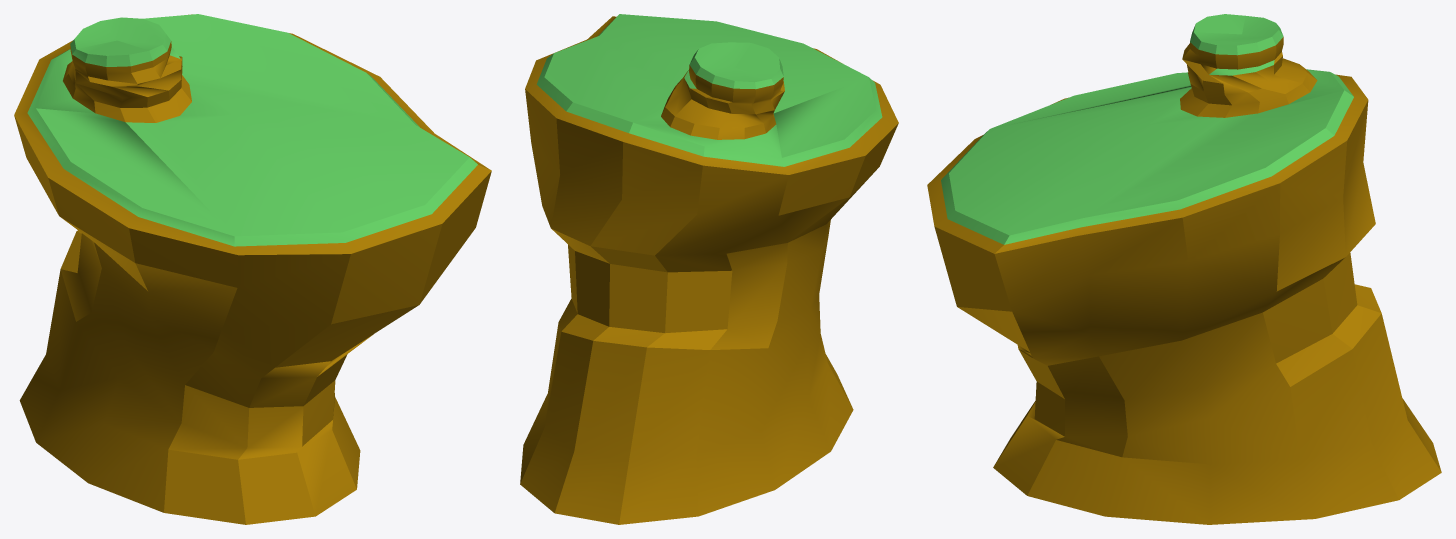
Rendered from terreno1.fbx.
3 renders of one model, left to right at view 1: azimuth 30°, elevation 25°; view 2: azimuth 150°, elevation 25°; view 3: azimuth 270°, elevation 25°, orthographic. The views are drawn at different scales.
Parts seen in each view (by area): view 1: Bluff_Grass_01; view 2: Bluff_Grass_01; view 3: Bluff_Grass_01.
Boxes of the visible parts, box(x1,y1,x2,y2) form: Bluff_Grass_01: box(14, 14, 491, 524); Bluff_Grass_01: box(520, 14, 898, 524); Bluff_Grass_01: box(927, 14, 1441, 524).
Size of the model in its own units: 1952 by 2177 by 2500.
